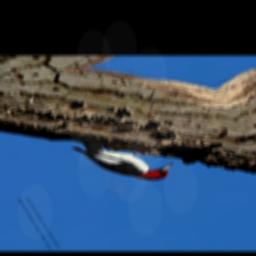Woodpecker: (58, 126, 190, 192)
